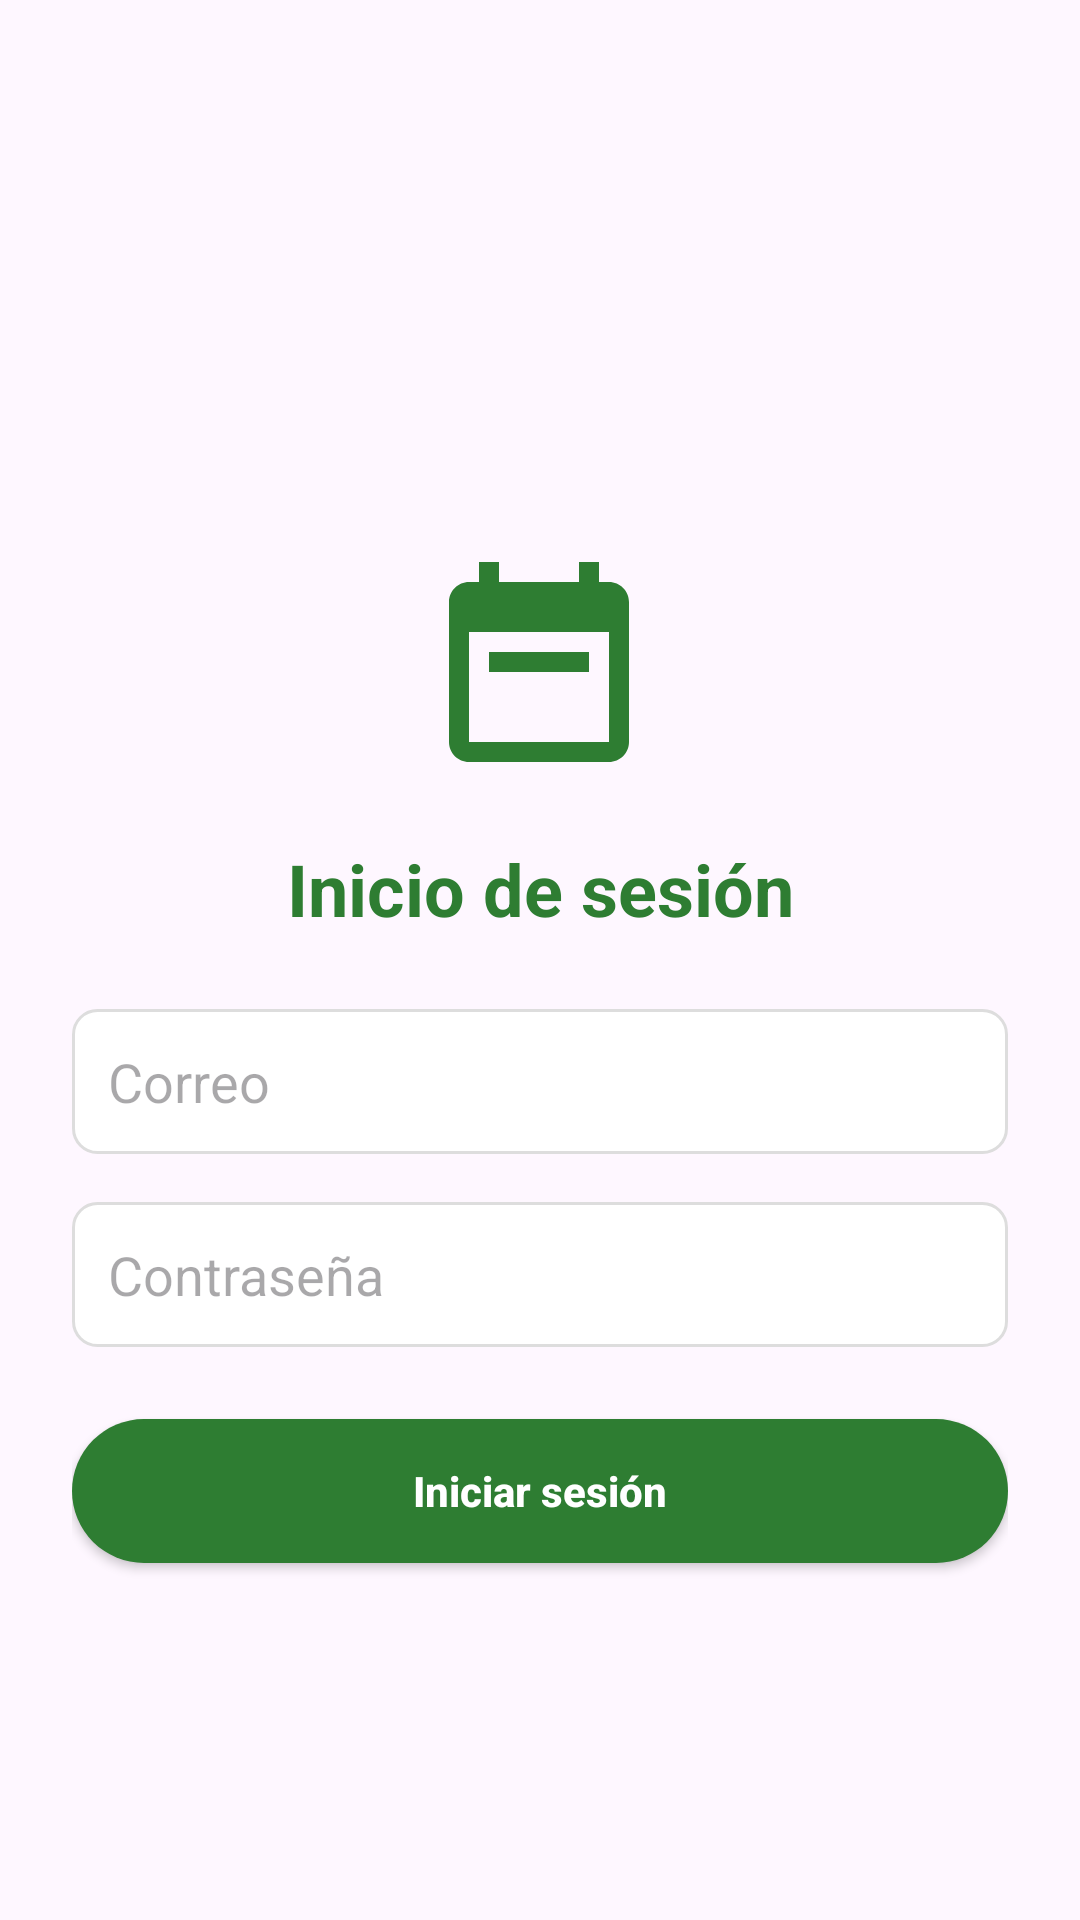

Icons on this 1080x1920 Android screen, each with its box as (x1, y1, x2, y2):
agenda: (449, 562, 629, 762)
